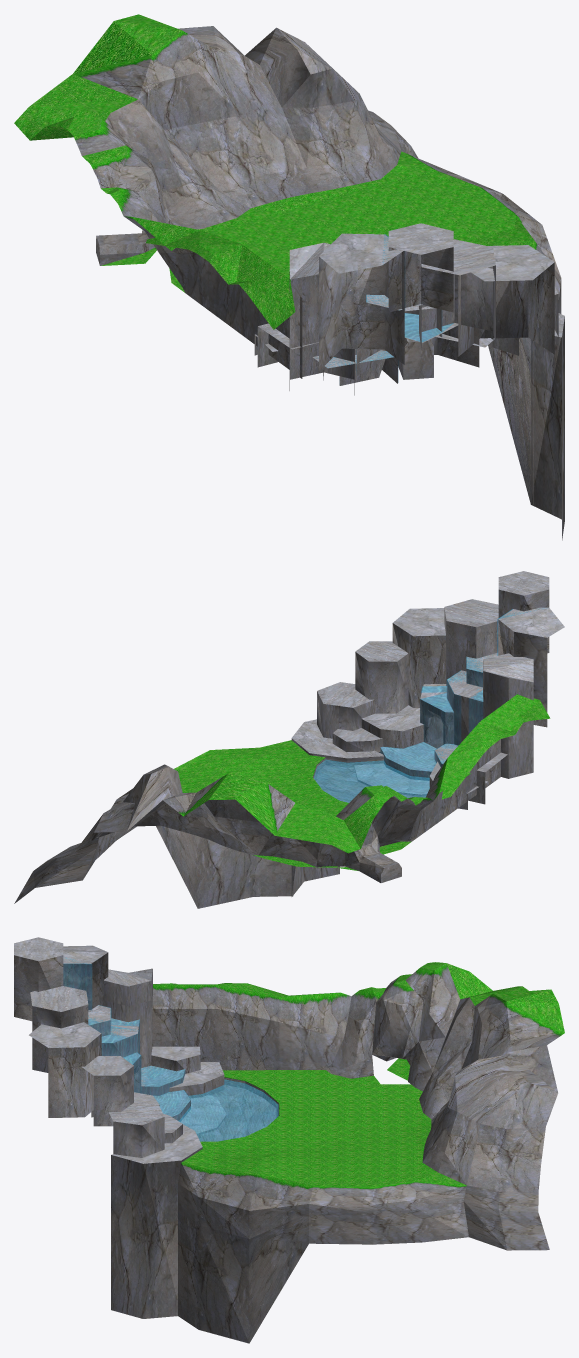
File: chao-garden-3.glb
The picture shows the model from 3 angles, top to bottom: view 1: azimuth 30°, elevation 25°; view 2: azimuth 150°, elevation 25°; view 3: azimuth 270°, elevation 25°; orthographic projection. The views are drawn at different scales.
Visible parts, largest first — view 1: chao_island; view 2: chao_island; view 3: chao_island.
Part boxes in pixels (x1=…): chao_island: x1=14, y1=14, x2=564, y2=540; chao_island: x1=14, y1=571, x2=564, y2=908; chao_island: x1=14, y1=937, x2=564, y2=1343.
Bounding box in the file's own units: 90.49 × 81.26 × 139.
Materials: 8 (8 with a texture image).
